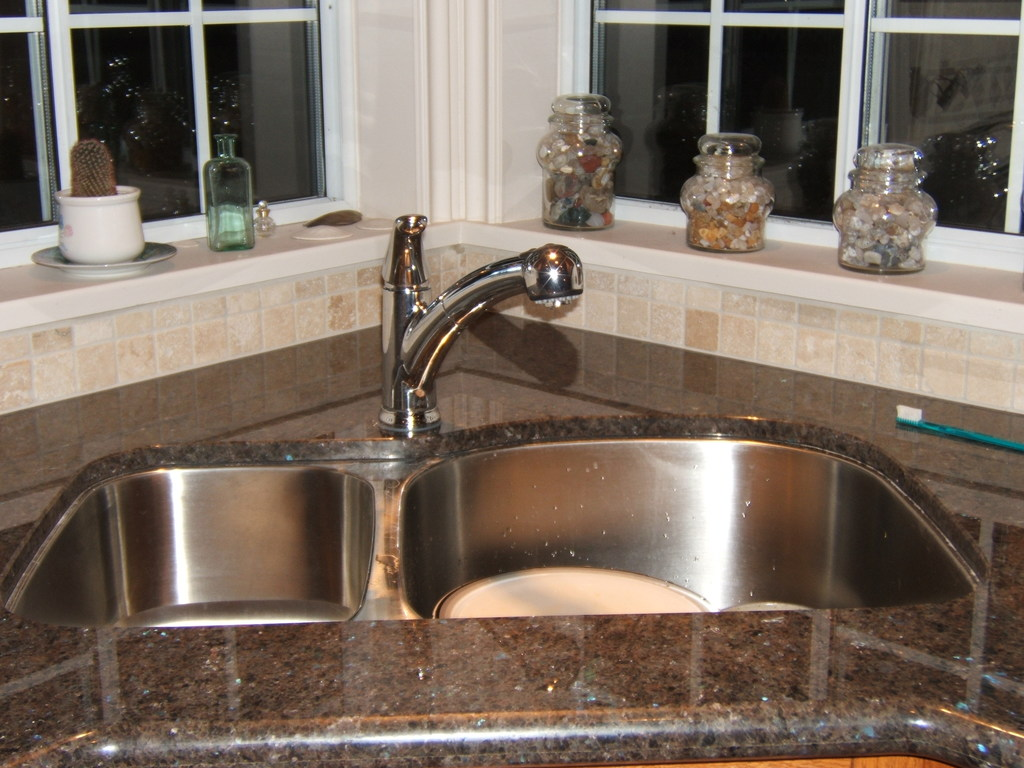tap: (373, 211, 582, 432)
